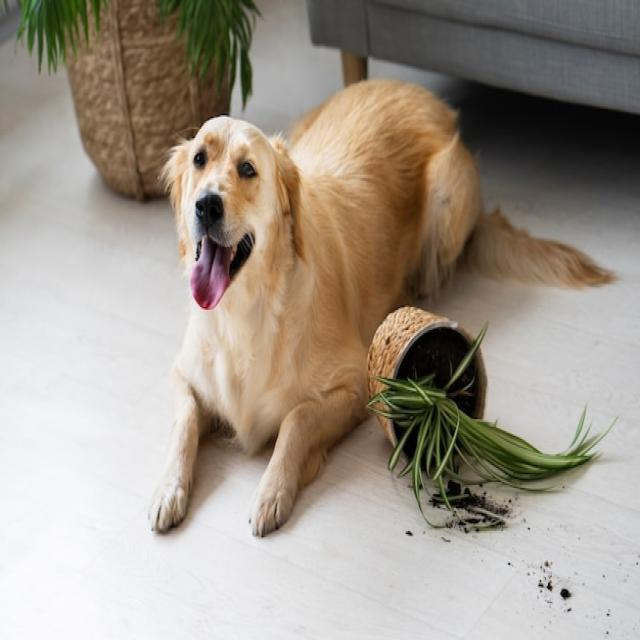Dog: (144, 73, 614, 539)
